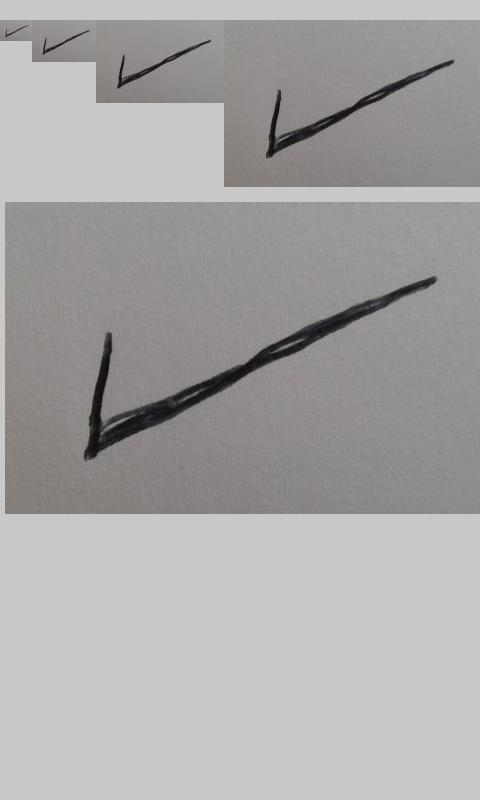check_box: (83, 275, 437, 461), (266, 59, 453, 157), (118, 40, 211, 88), (42, 30, 89, 54), (5, 25, 28, 37)
